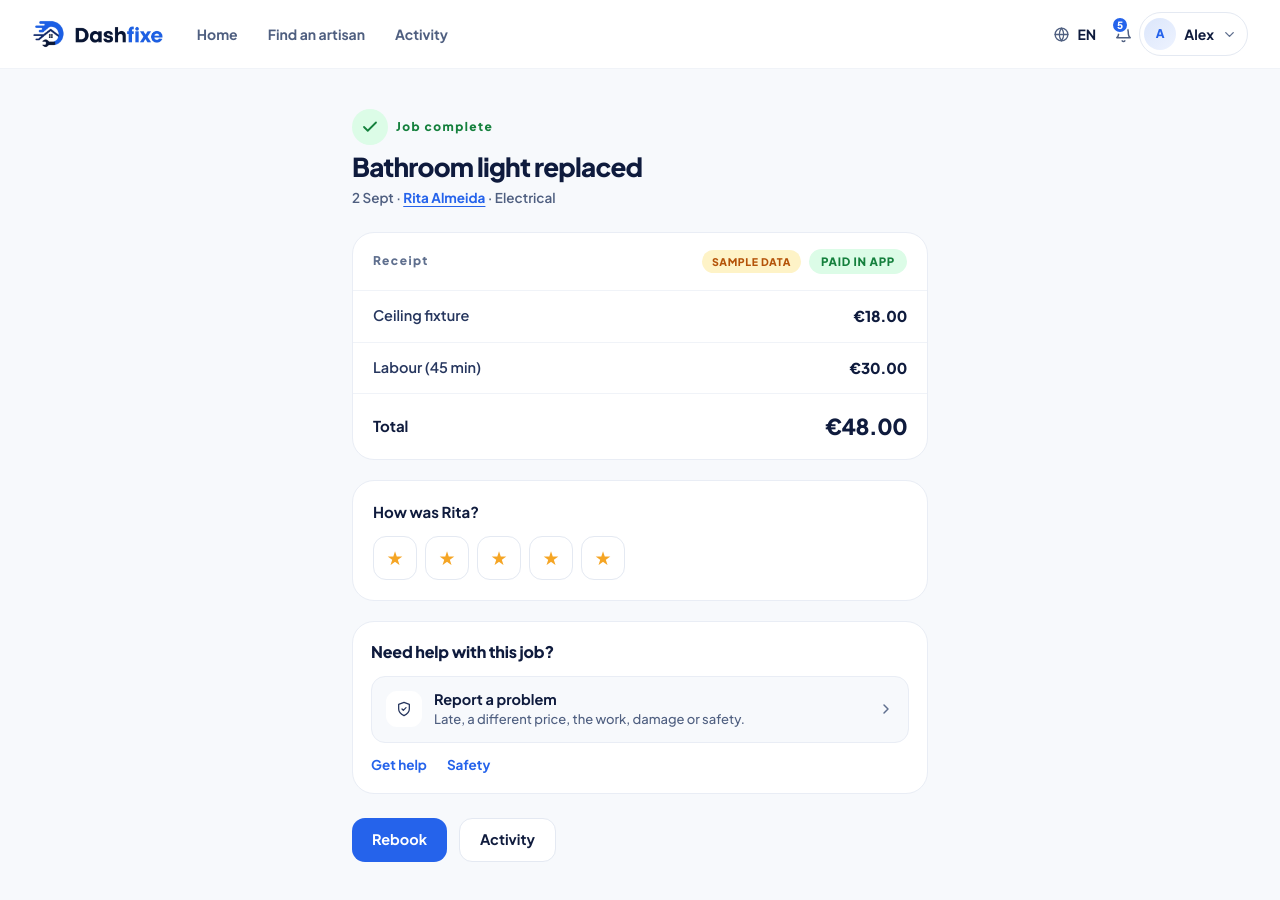
Test: /job/:id › shows a receipt for a finished job and takes a rating
Expected: the text "Paid in app" is shown, [809,249,907,274]
Expected: the text "Ceiling fixture" is shown, [373,306,469,327]
Click the button named "Rate 5 stars" at (603,558), box [581,536,625,580]
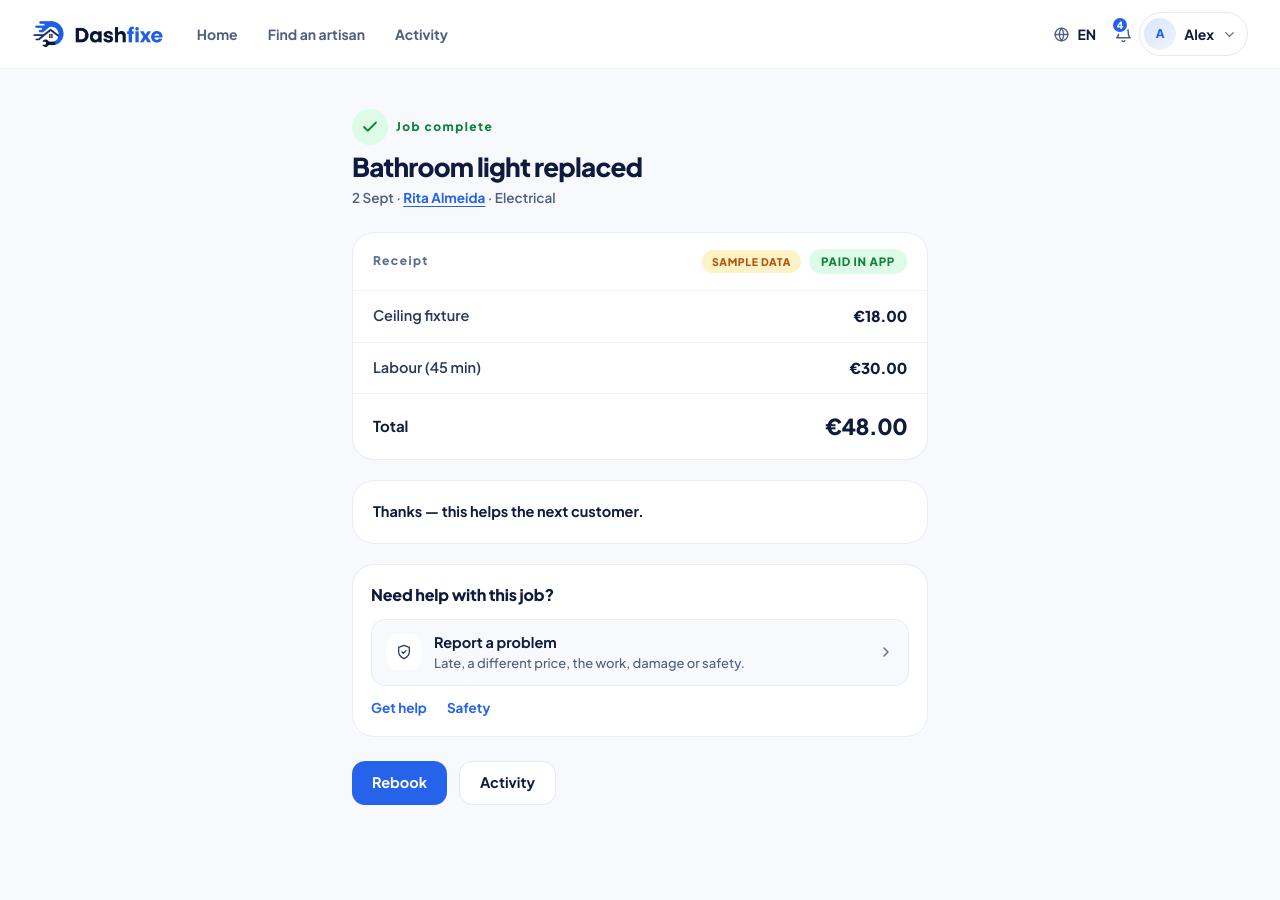
Expected: the text "Thanks — this helps the next customer." is shown, [373,502,644,520]
